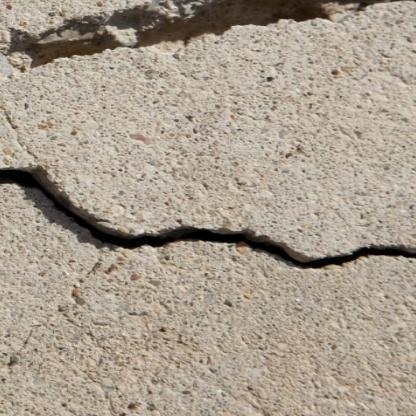Cracks: (0, 161, 416, 274), (0, 0, 416, 74)
